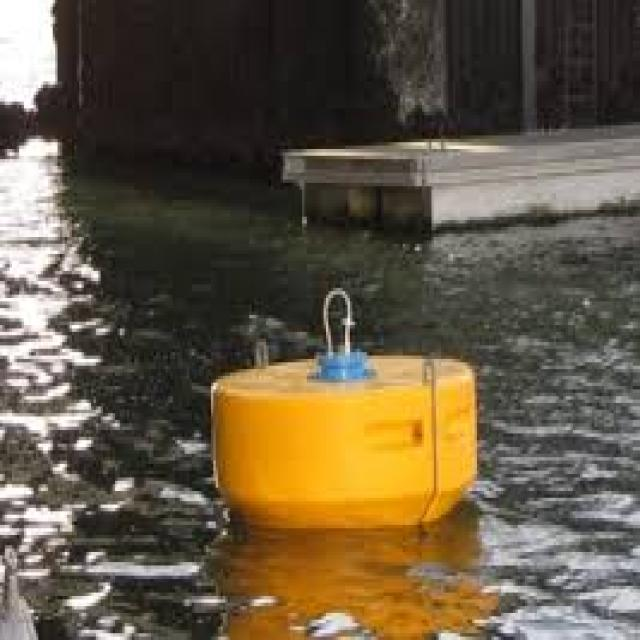2.5 sepcial mark: (206, 276, 490, 540)
